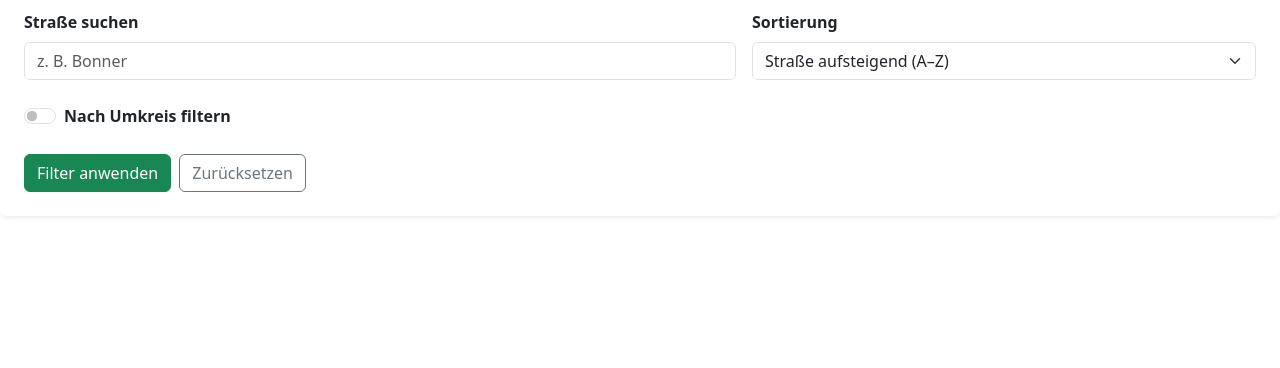
Test: StationFilters › clears the controls and requests the complete list
Step 1. Type "Bonner" into the search field labelled "Straße suchen" → (380, 61), box left=24, top=42, right=736, bottom=80
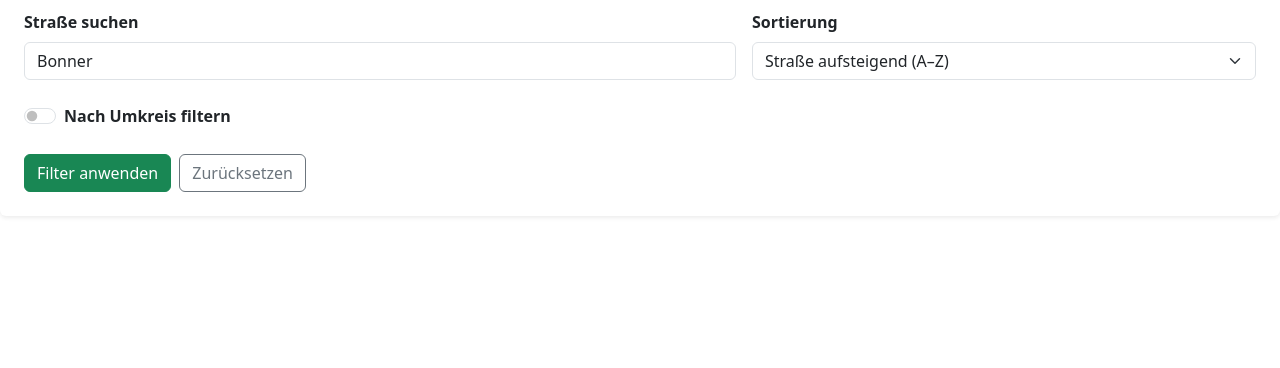
Step 2. Click the switch labelled "Nach Umkreis filtern" → (40, 116), box left=24, top=108, right=56, bottom=124
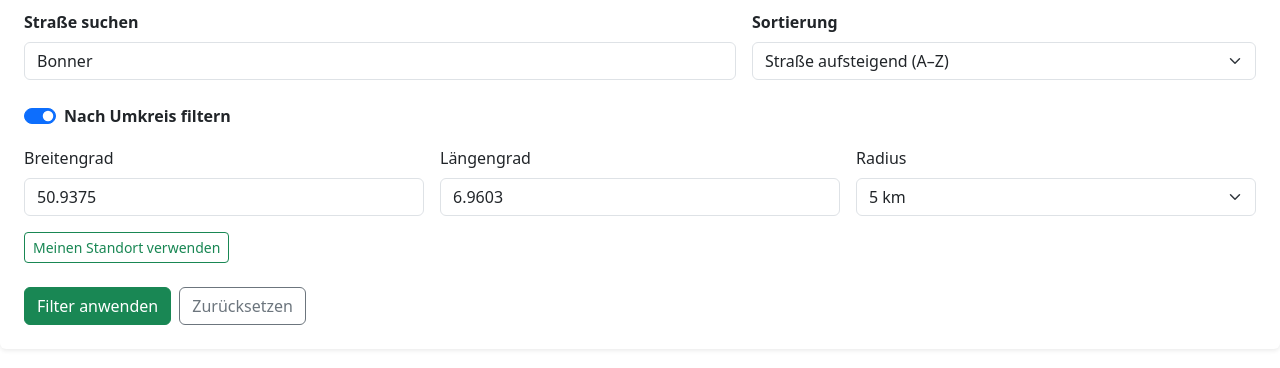
Step 3. Click the button "Zurücksetzen" → (243, 306), box left=179, top=287, right=306, bottom=325
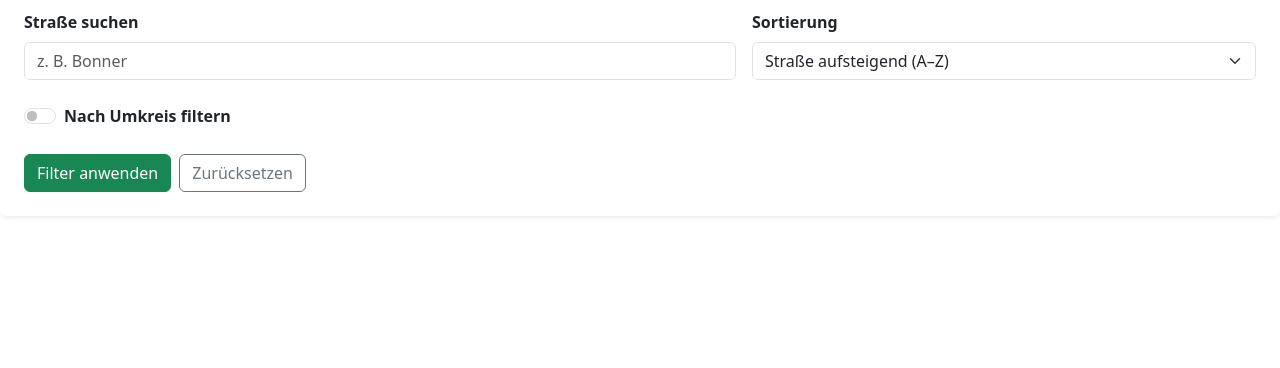
Now the search field labelled "Straße suchen" is empty, box left=24, top=42, right=736, bottom=80
Now the label labelled "Breitengrad" is gone
